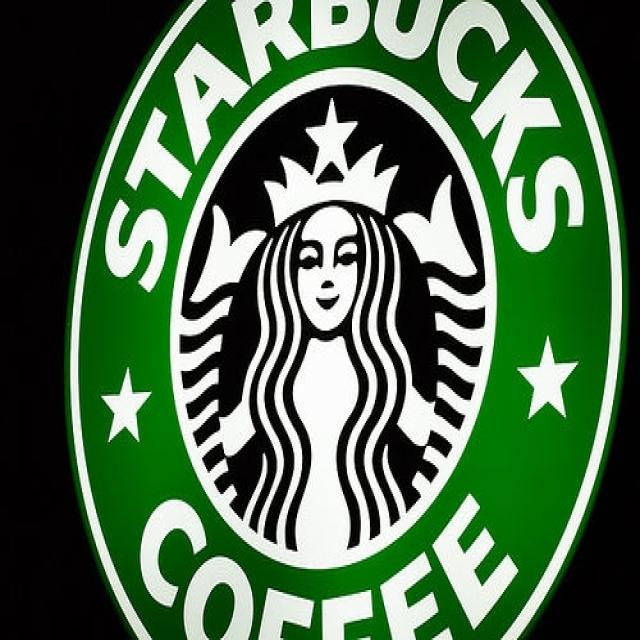starbucks: (69, 3, 624, 639)
